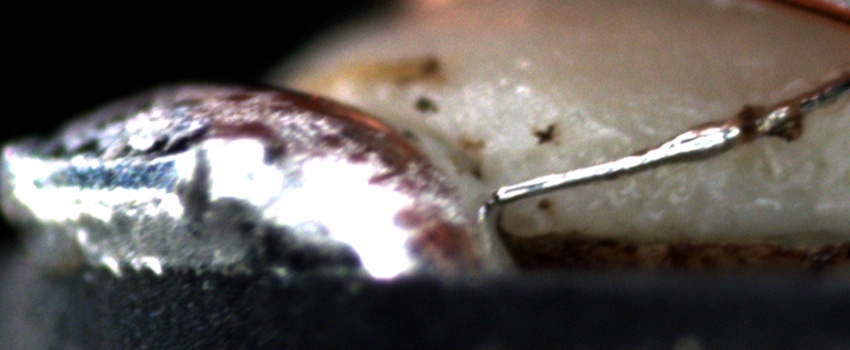TS: (492, 122, 742, 202)
TTCW: (494, 75, 837, 212)
